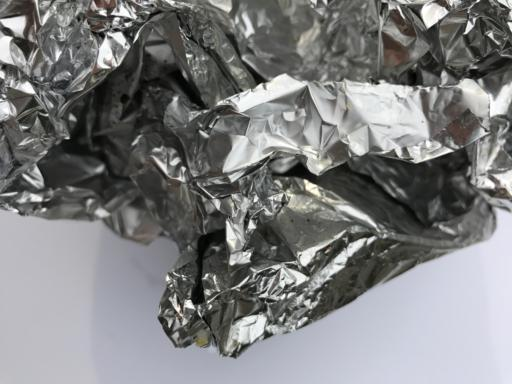metal: (0, 6, 512, 361)
